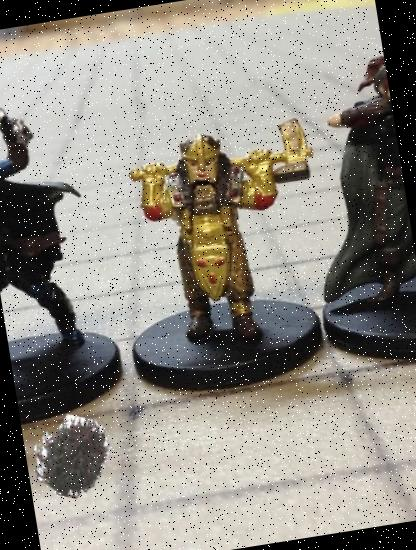Rambutan: (24, 410, 118, 503)
